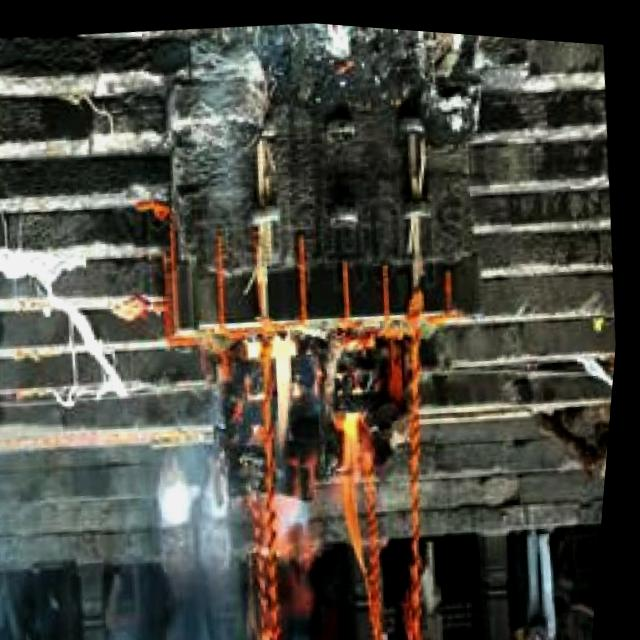Fire: (239, 305, 405, 565)
